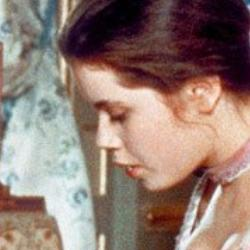face: (50, 3, 248, 207)
